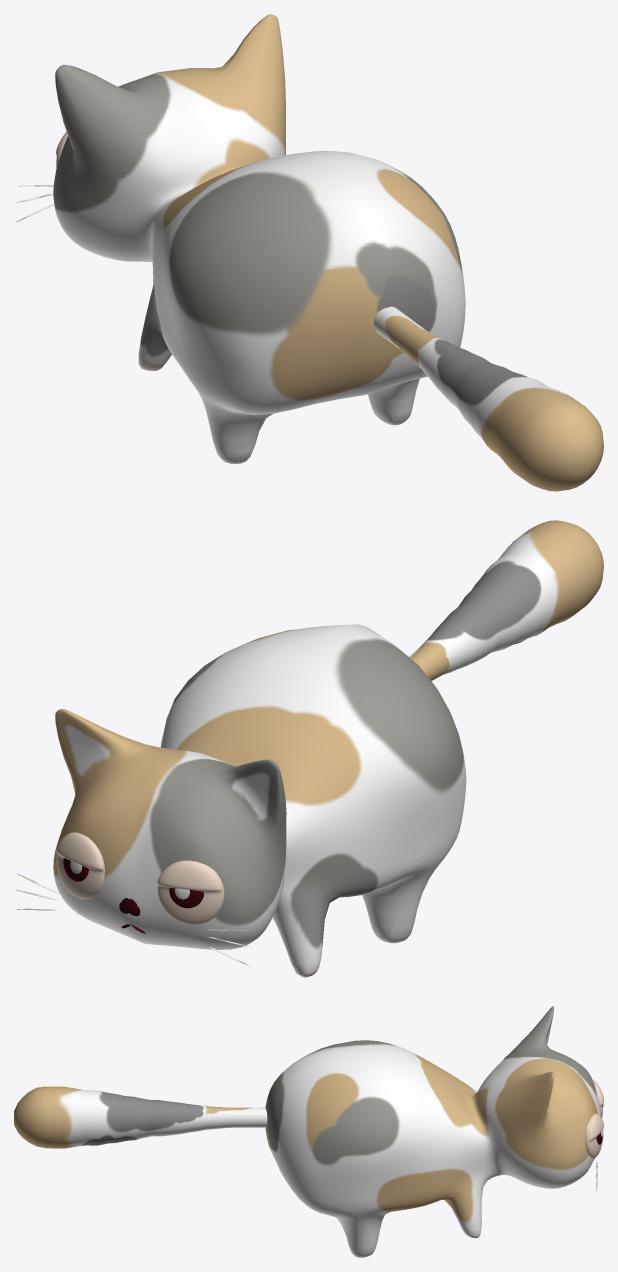
File: cat.glb
3 renders of one model, top to bottom at view 1: azimuth 30°, elevation 25°; view 2: azimuth 150°, elevation 25°; view 3: azimuth 270°, elevation 25°, orthographic. The views are drawn at different scales.
Parts seen in each view (by area): view 1: body.001, body.004; view 2: body.001, body.004, body.002, body; view 3: body.001, body.004, body.002.
Part boxes in pixels (<box>): body.001: <box>15,14,465,463</box>; body.004: <box>373,306,603,491</box>; body.001: <box>15,624,466,977</box>; body.004: <box>409,520,603,680</box>; body.002: <box>56,832,224,925</box>; body: <box>63,858,203,933</box>; body.001: <box>265,1006,600,1257</box>; body.004: <box>14,1086,267,1148</box>; body.002: <box>585,1080,603,1158</box>.
Bounding box in the file's own units: 3.18 × 3.42 × 9.57.
Materials: 4 (2 with a texture image).
